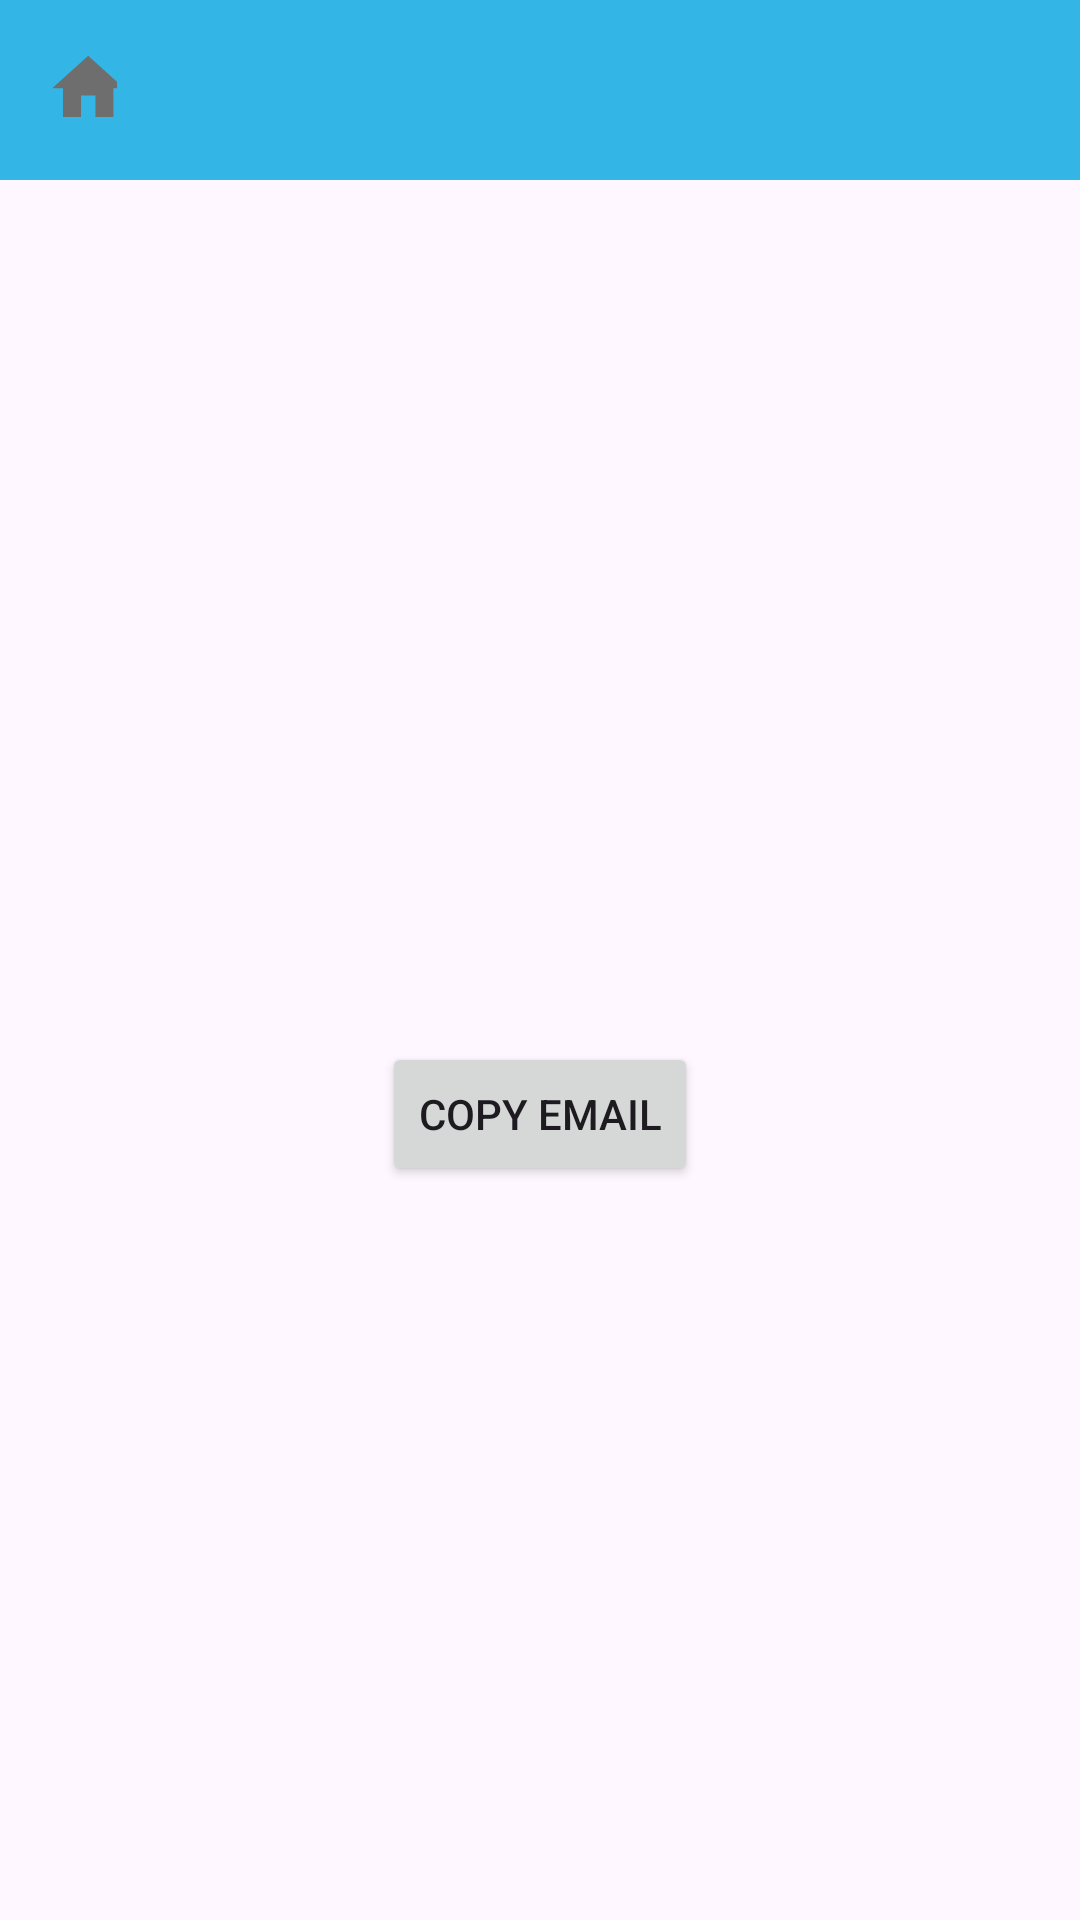

Screen size 1080 × 1920. Icon name, then its center in pixels as point (x, y):
home: point (85, 86)
